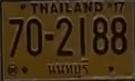0: (26, 18, 41, 55)
1: (79, 18, 84, 55)
2: (56, 18, 72, 55)
7: (8, 18, 23, 56)
8: (110, 16, 126, 54), (92, 16, 107, 54)
NBI: (46, 59, 91, 78)
